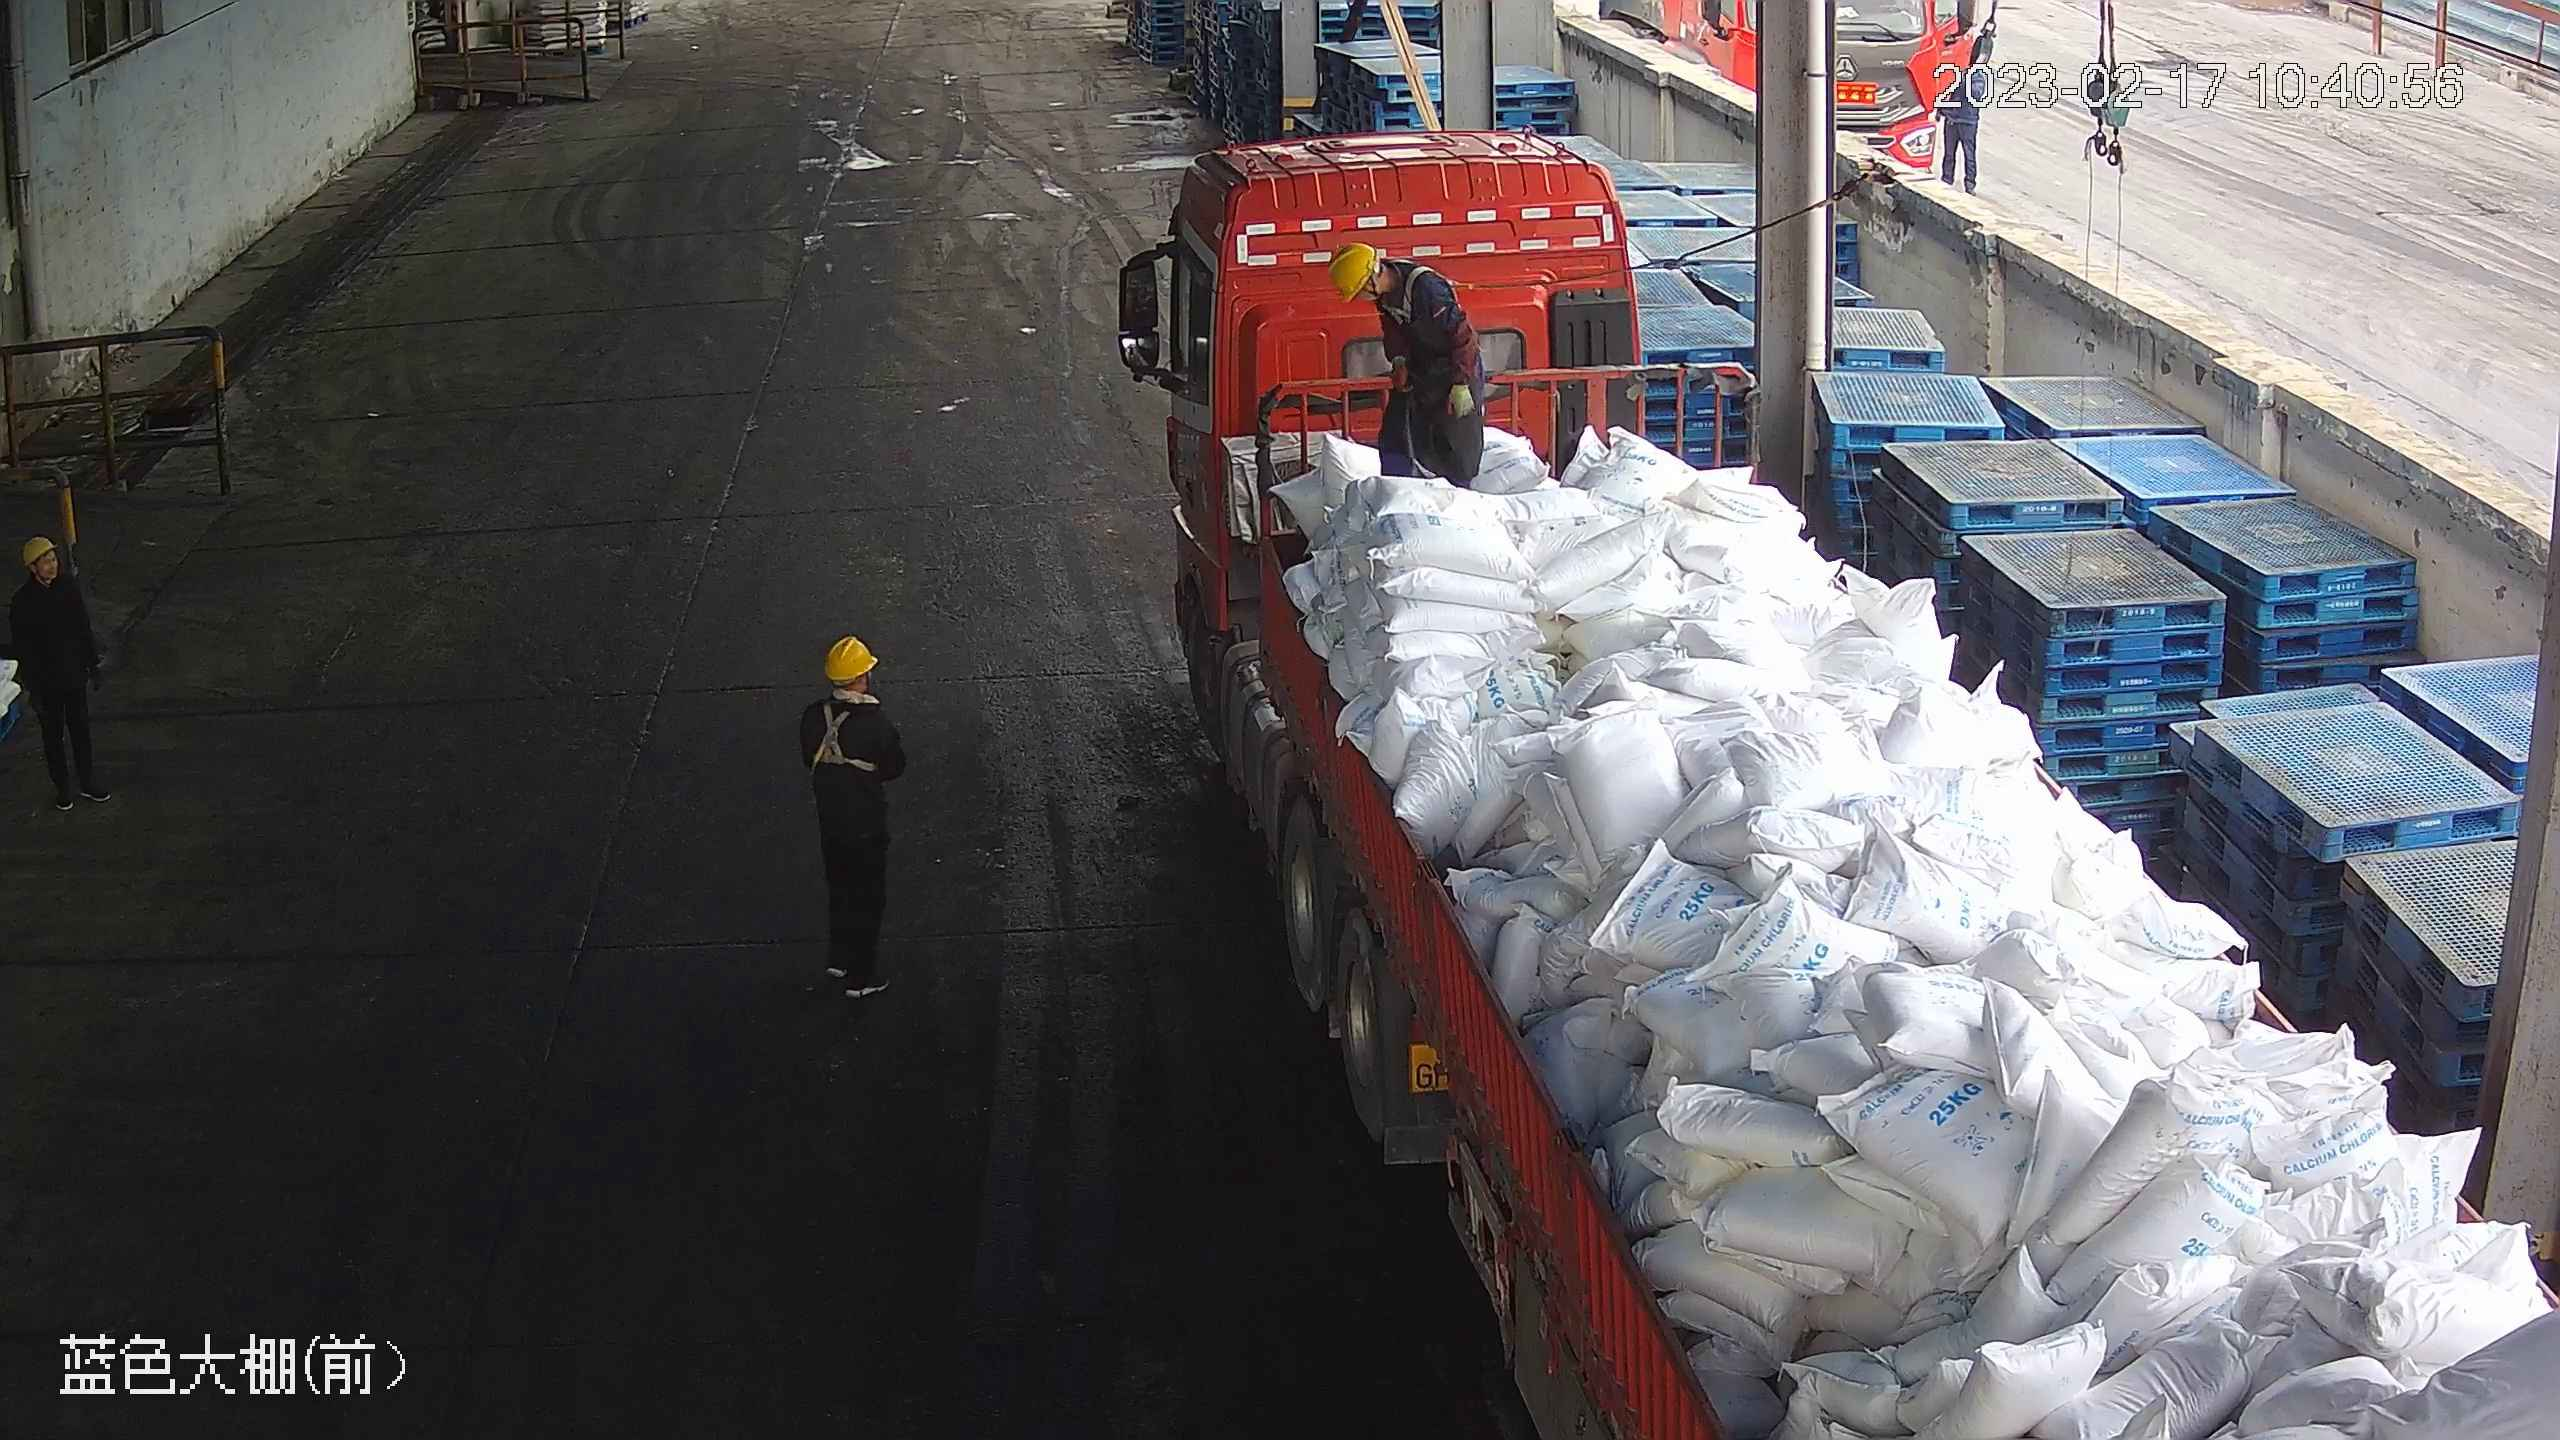belt: (1386, 256, 1469, 328), (808, 695, 881, 774)
head: (798, 635, 901, 744), (1327, 241, 1447, 329), (8, 534, 88, 618), (1326, 240, 1383, 300)
helmet: (1327, 240, 1380, 298), (821, 634, 877, 681), (20, 535, 57, 565)
people: (793, 637, 904, 1007), (1327, 242, 1489, 485), (6, 533, 112, 813)
truck: (1114, 124, 2556, 1440)
